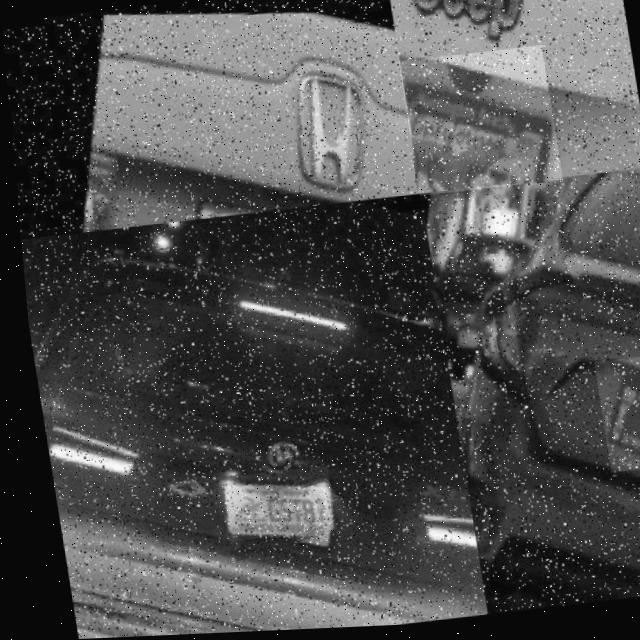LicensePlate: (396, 49, 560, 199), (586, 358, 640, 477), (212, 480, 324, 533)
